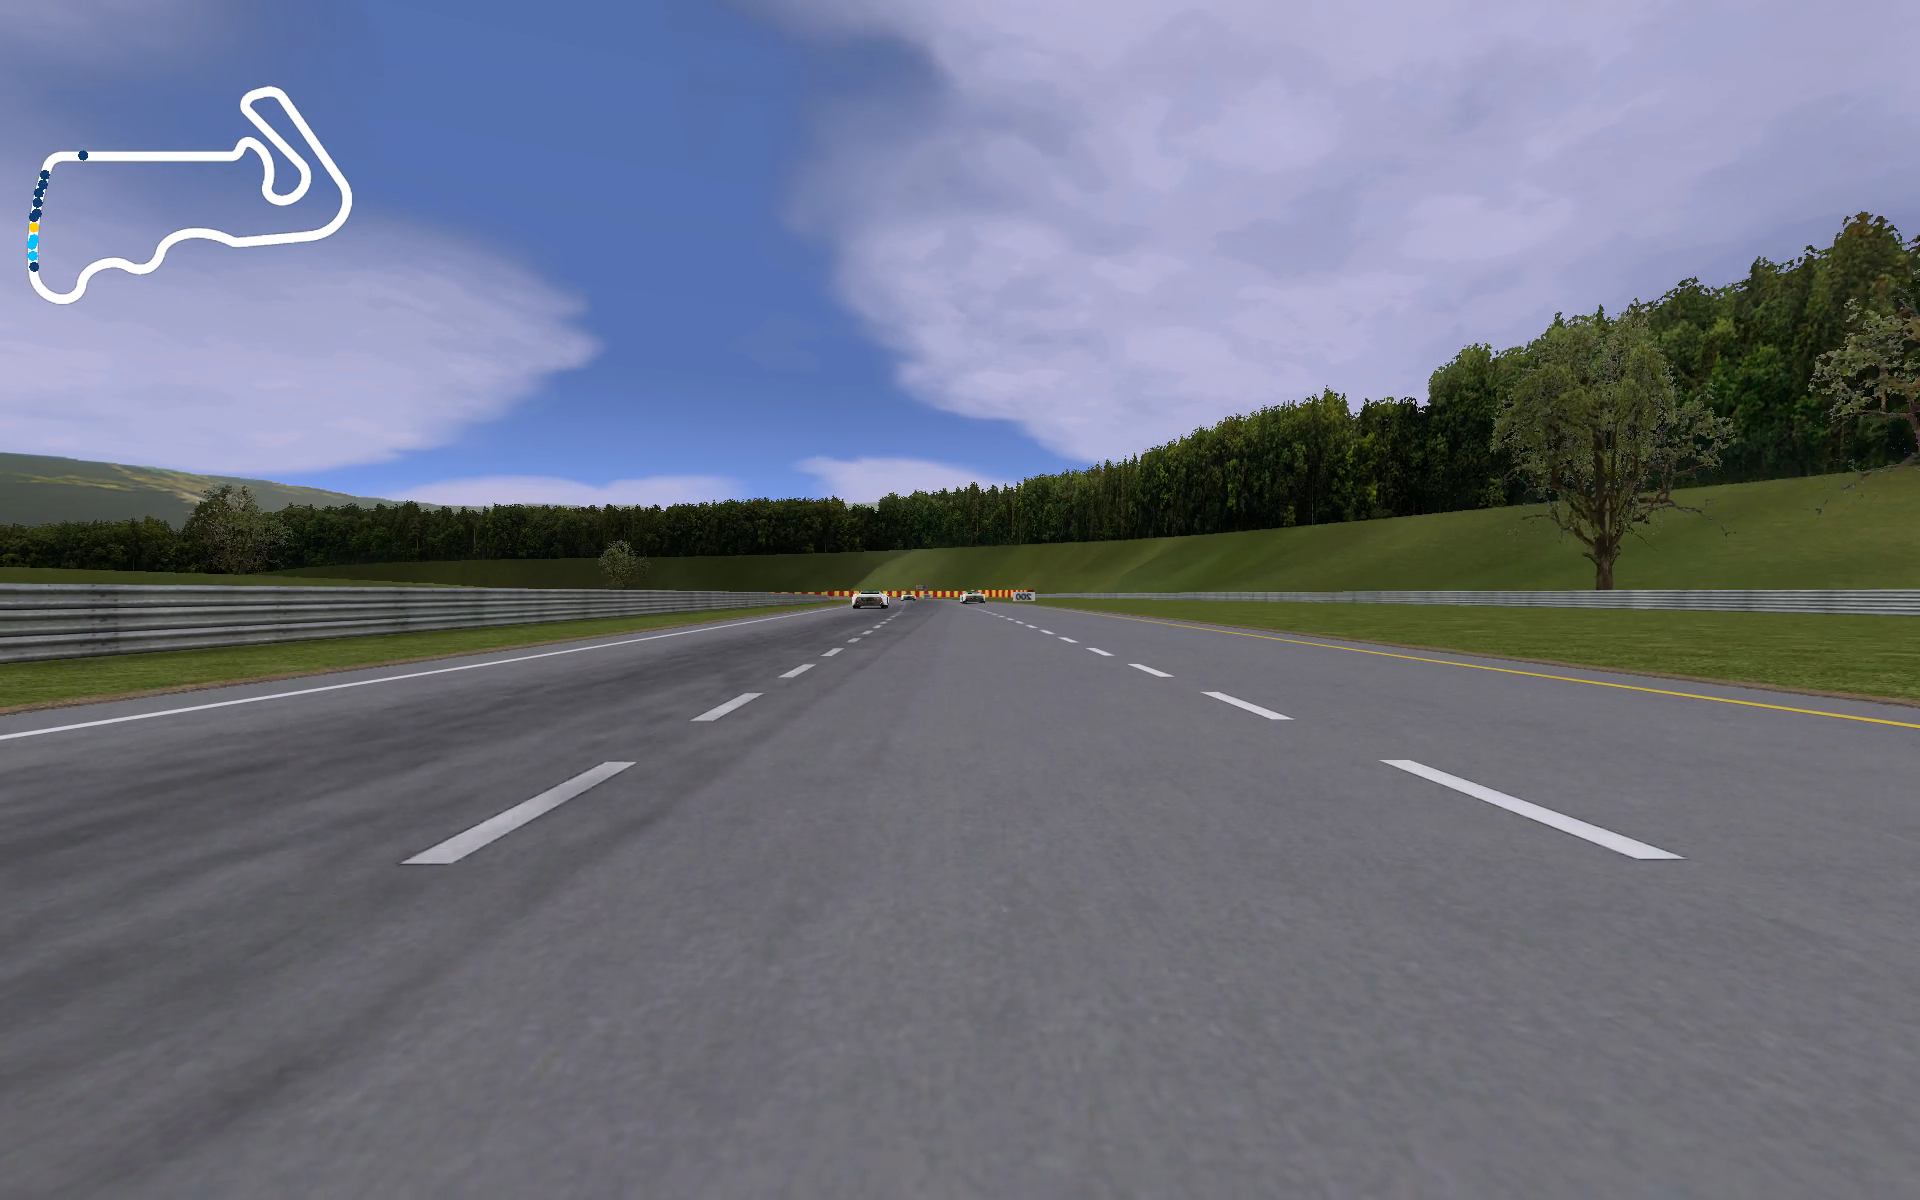car: (849, 588, 892, 610)
